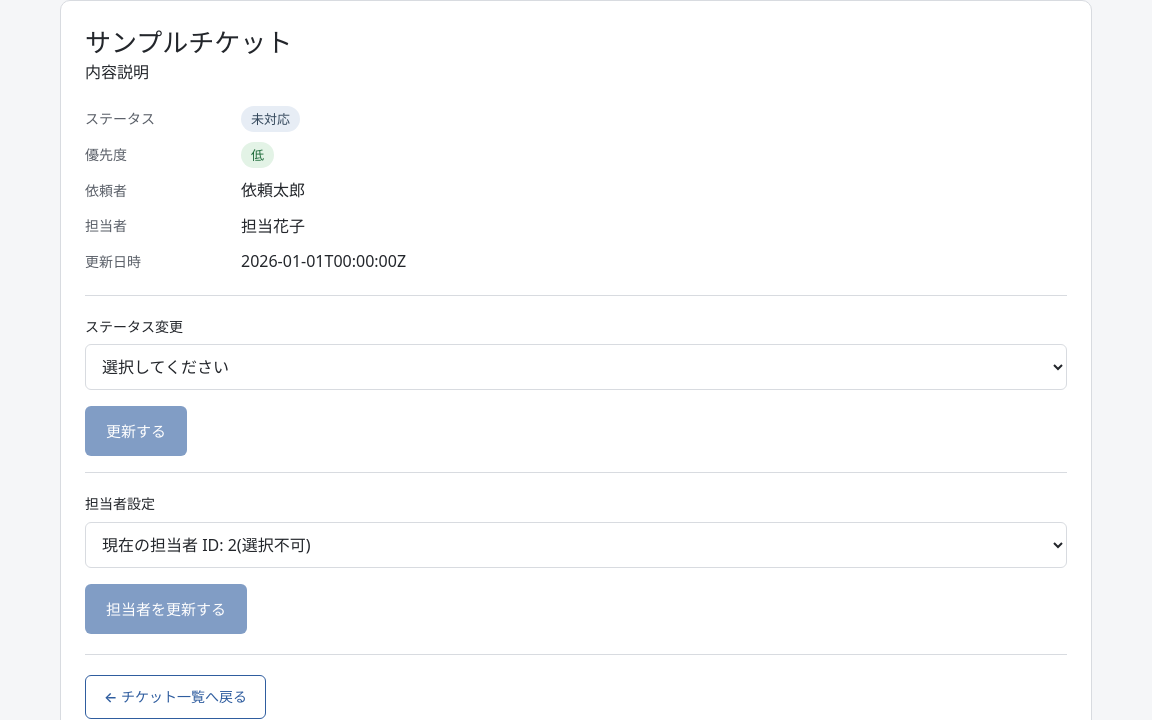
Test: TicketDetailPage › 不正な遷移(409)はエラーメッセージを表示する
Expected: the heading "サンプルチケット" is shown, [85, 25, 292, 60]
Select "対応中" in the dropdown labelled "ステータス変更" at coordinates (576, 367), box [85, 344, 1067, 390]
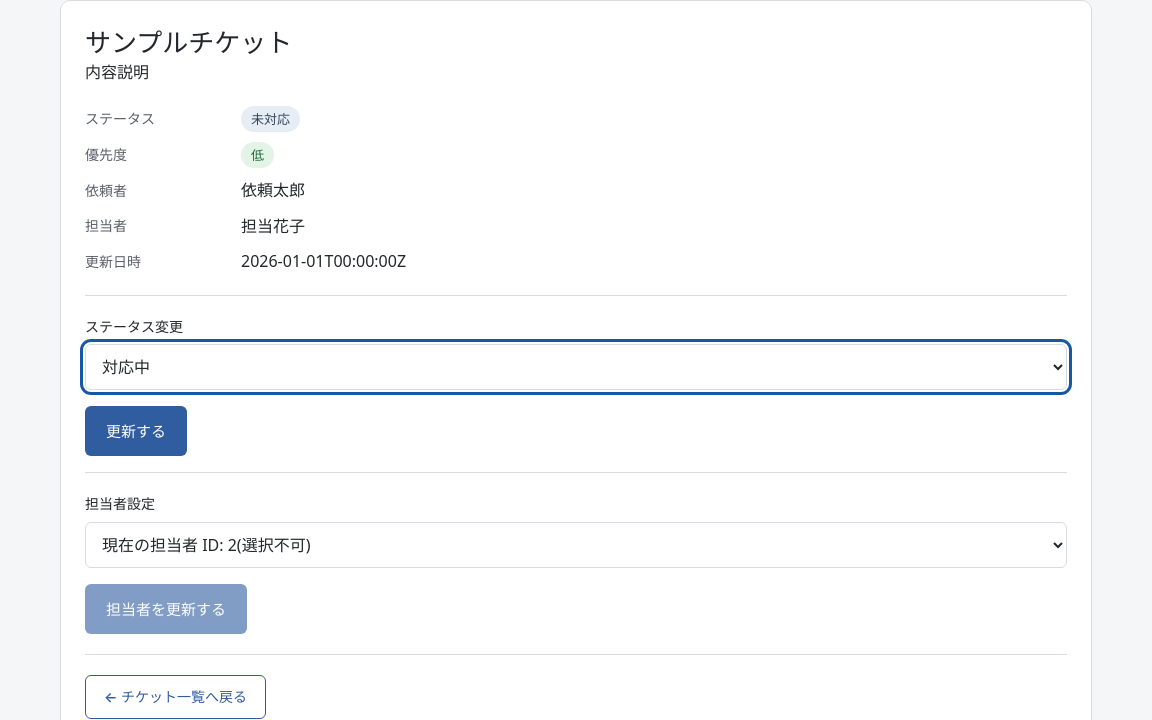
Click the button "更新する" at coordinates (136, 431), box [85, 406, 187, 456]
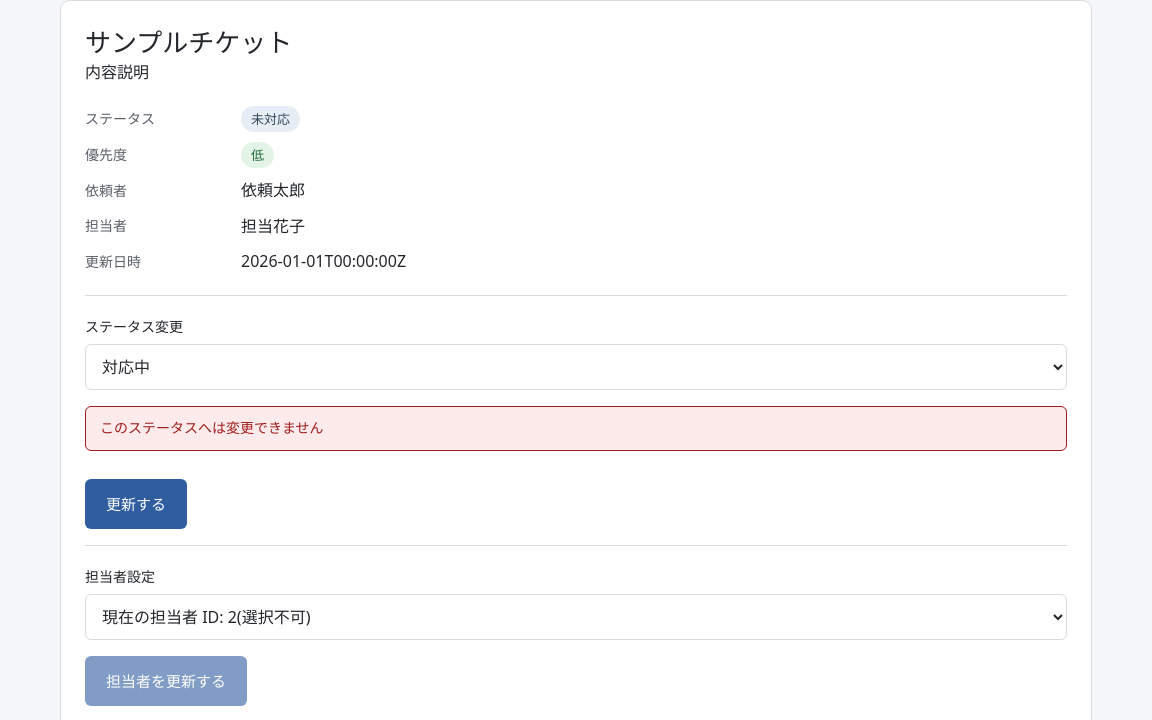
Expected: the message reads "このステータスへは変更できません", [100, 418, 324, 437]
